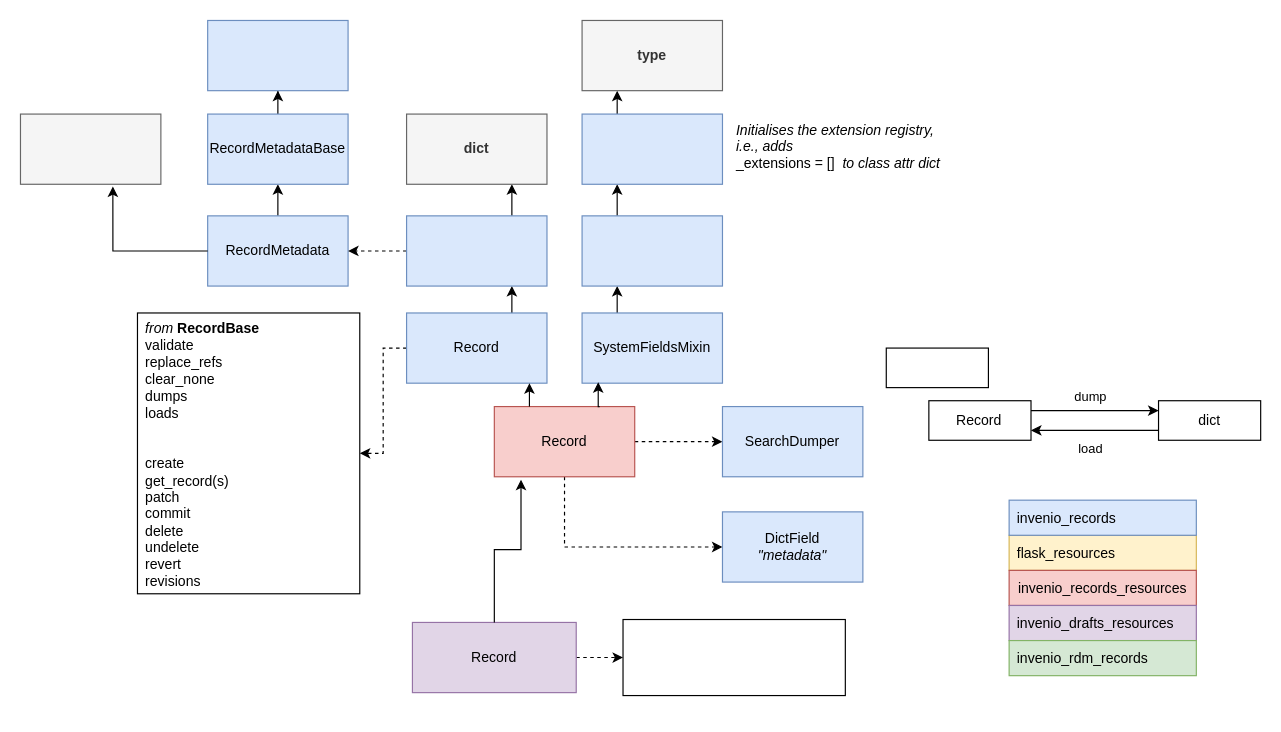
Image size: 1281x732. Some labels were removed from this diagram. The shapes that lost their labels are listed below. From the top down, each one's box as (x1, y1, x2, y2) in pixels, then its label:
(207, 19, 348, 91): Timestamp
(19, 113, 161, 184): db.model
(581, 113, 722, 184): RecordMeta (metaclass)
(405, 215, 547, 286): RecordBase
(581, 215, 722, 286): SystemFieldsMeta (metaclass)
(885, 347, 988, 388): Dumper
(622, 618, 845, 696): get_records_by_parent get_latest_by_parent publish register
